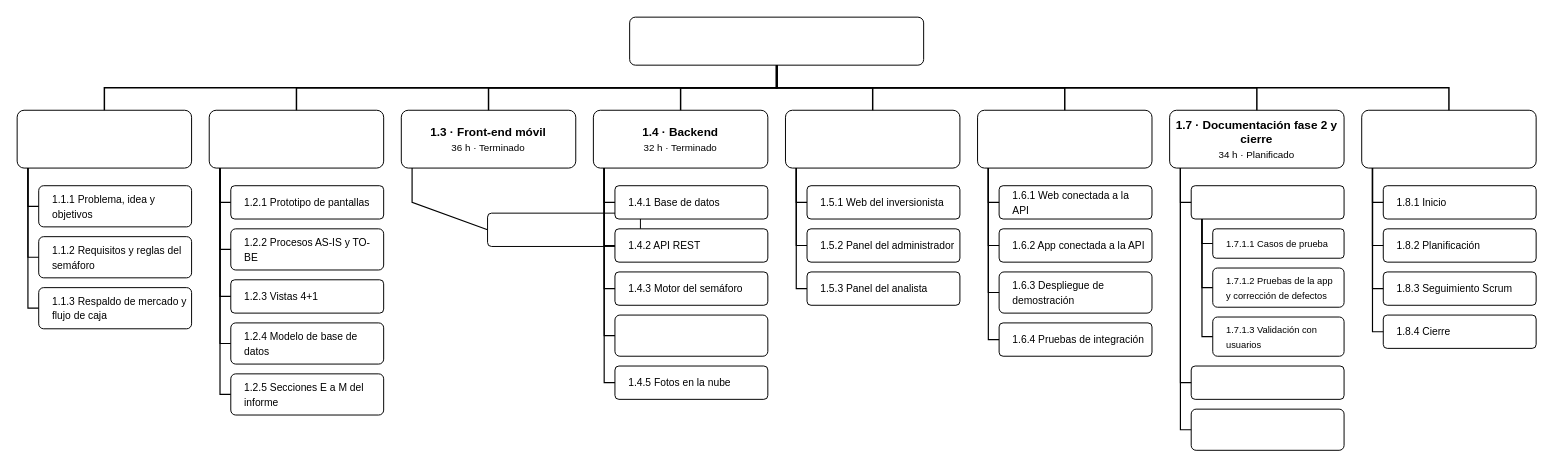
Image size: 1553x467. Some labels were removed from this diagram. Here are the shapes that lost their labels. From the top down, the box of each, then its label:
(629, 16, 924, 65): 1 · HouseGreen Plataforma web y móvil de remates · 244 horas
(16, 109, 192, 168): 1.1 · Documentación fase 1 34 h · Terminado
(208, 109, 384, 168): 1.2 · Complemento (diseño y modelado) 25 h · En curso
(784, 109, 960, 168): 1.5 · Front-end web 37 h · En curso
(977, 109, 1152, 168): 1.6 · Conexión 34 h · En curso
(1361, 109, 1536, 168): 1.8 · Gestión del proyecto 12 h · En curso
(1190, 185, 1344, 219): 1.7.1 Pruebas y validación
(487, 212, 640, 246): 1.3.1 Pantallas de la app
(614, 314, 768, 356): 1.4.4 Carga automática de remates
(1190, 365, 1344, 399): 1.7.2 Informe final y guías
(1190, 408, 1344, 450): 1.7.3 Presentación y demostración
